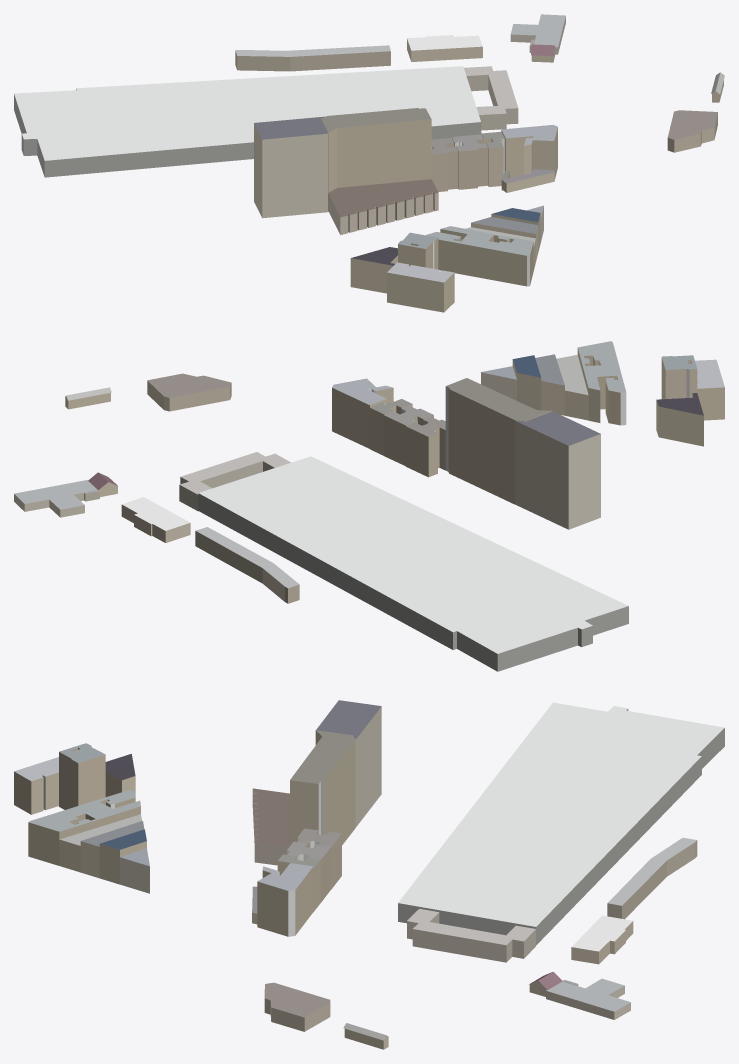
3 renders of one model, top to bottom at view 1: azimuth 30°, elevation 25°; view 2: azimuth 150°, elevation 25°; view 3: azimuth 270°, elevation 25°, orthographic. The views are drawn at different scales.
Visible parts, largest first — view 1: tuile; view 2: tuile; view 3: tuile.
Boxes of the visible parts, <box> form: tuile: <box>14,14,724,312</box>; tuile: <box>14,341,724,671</box>; tuile: <box>14,700,724,1049</box>.
Bounding box in the file's own units: 315 × 40.7 × 286.
